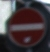No entry: (6, 6, 45, 47)
